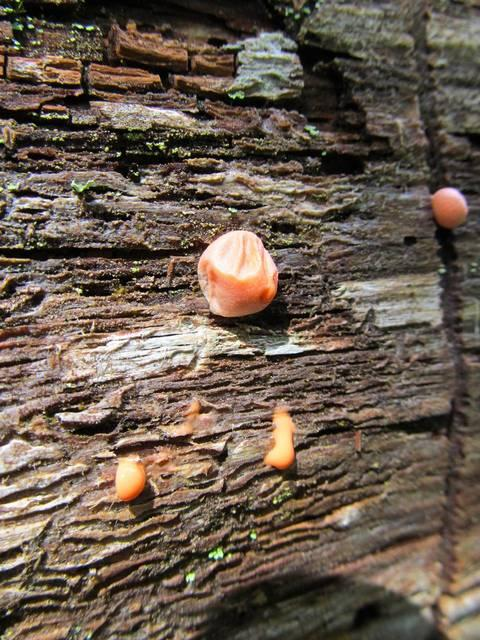Non-edible Mushroom: (196, 228, 279, 318), (262, 406, 297, 470), (430, 186, 468, 230), (113, 455, 146, 502)
